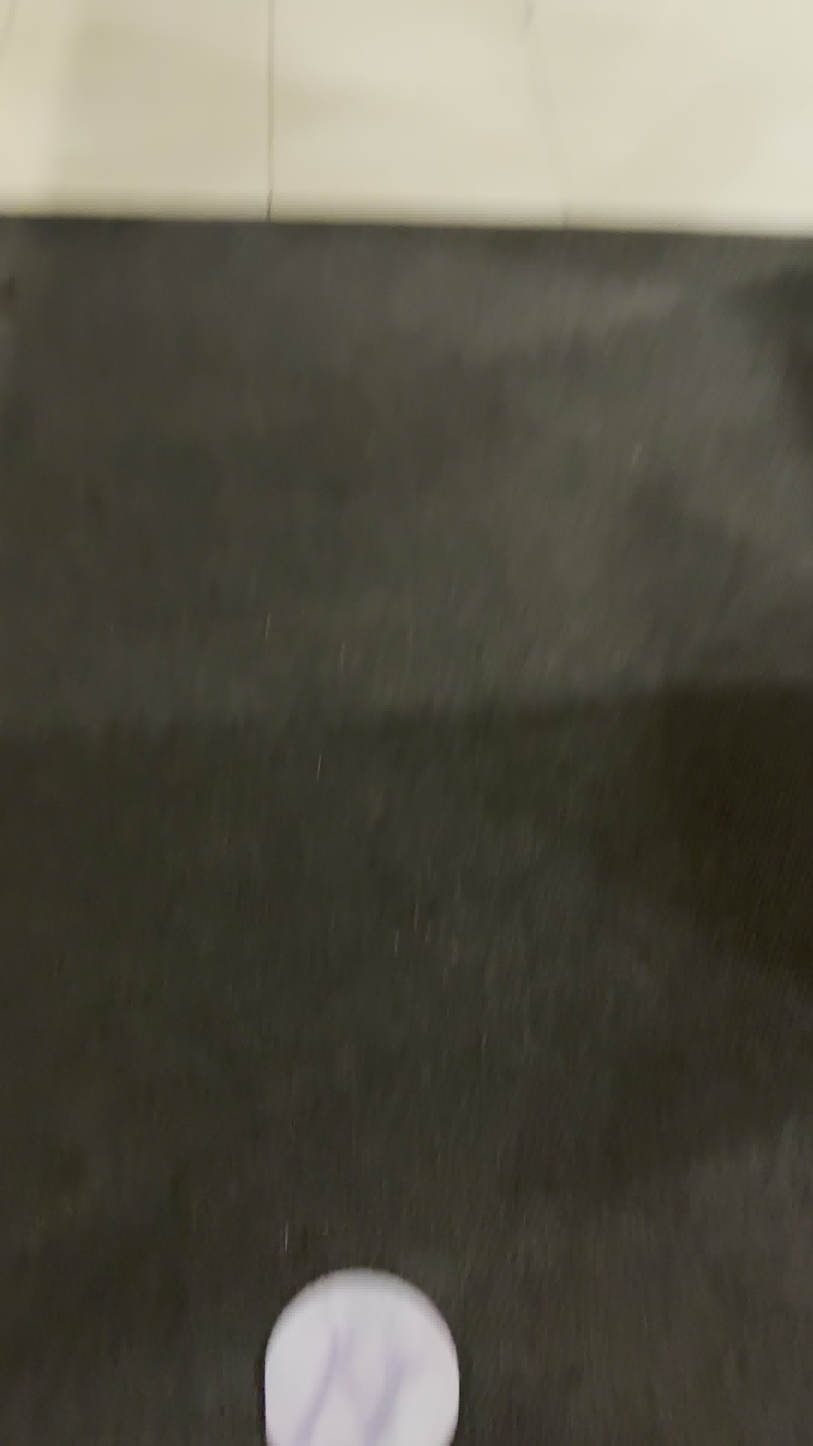Target: (252, 1262, 471, 1446)
